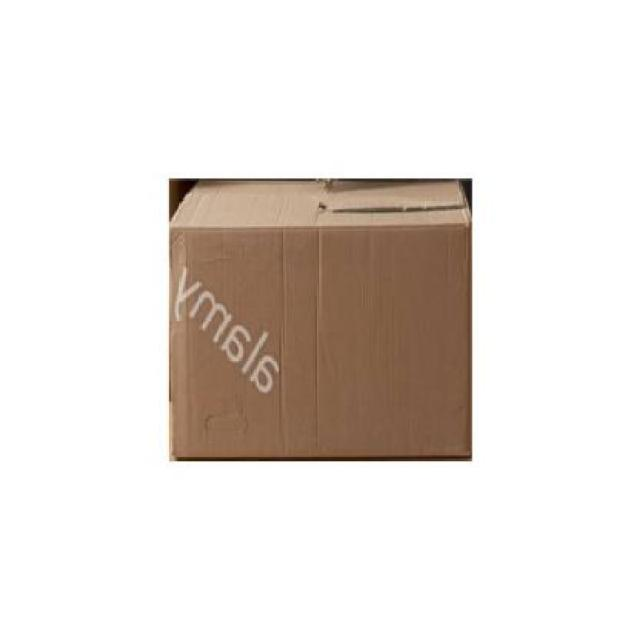cardboxes: (173, 178, 470, 458)
